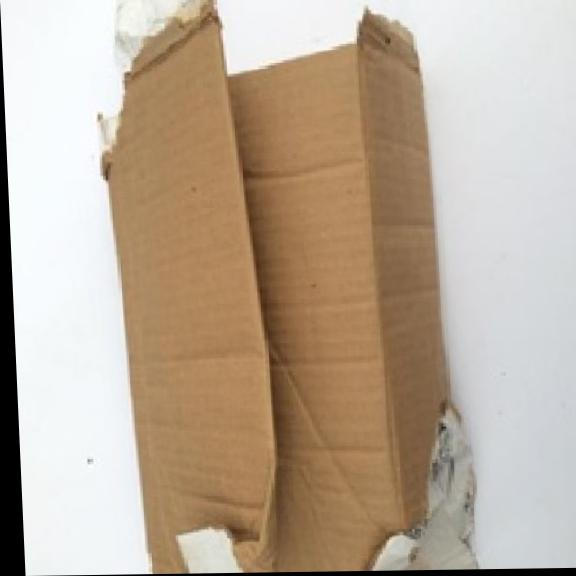Kertas: (101, 0, 475, 573)
